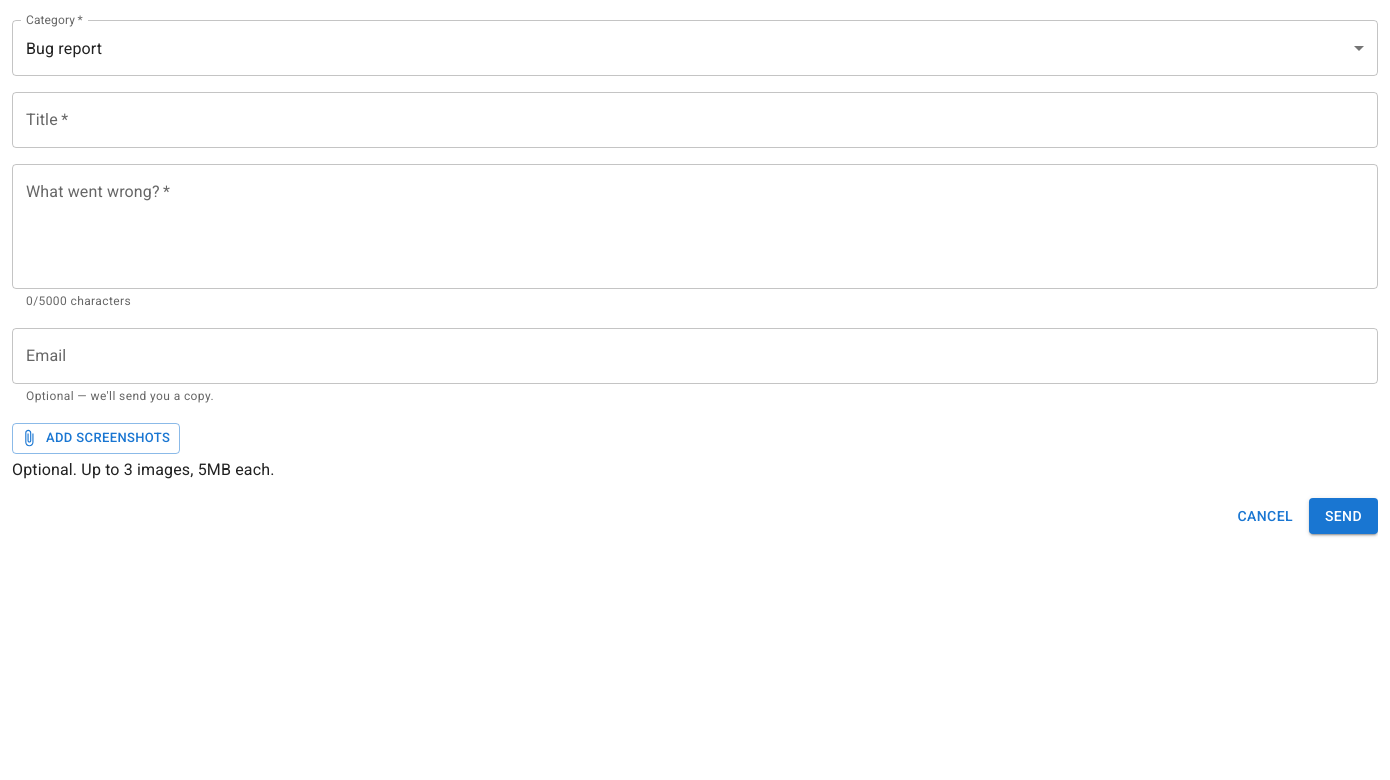
Test case: FeedbackForm › blocks submission and shows inline errors when required fields are empty
Click the button "Send".
click(1343, 516)  # box [1309,498,1378,534]
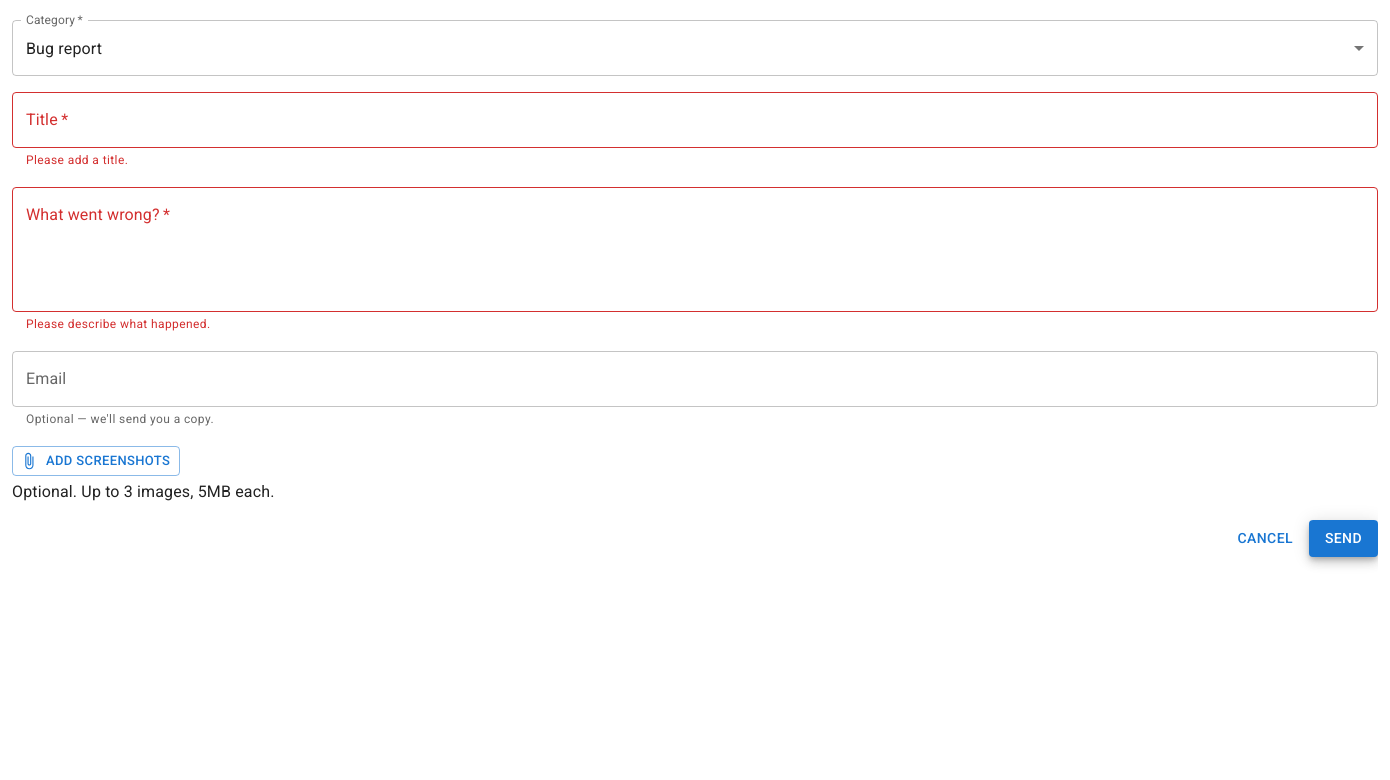
Check: the text "Please add a title." is shown, box [26,153,128,167]
Check: the text "Please describe what happened." is shown, box [26,317,210,331]
